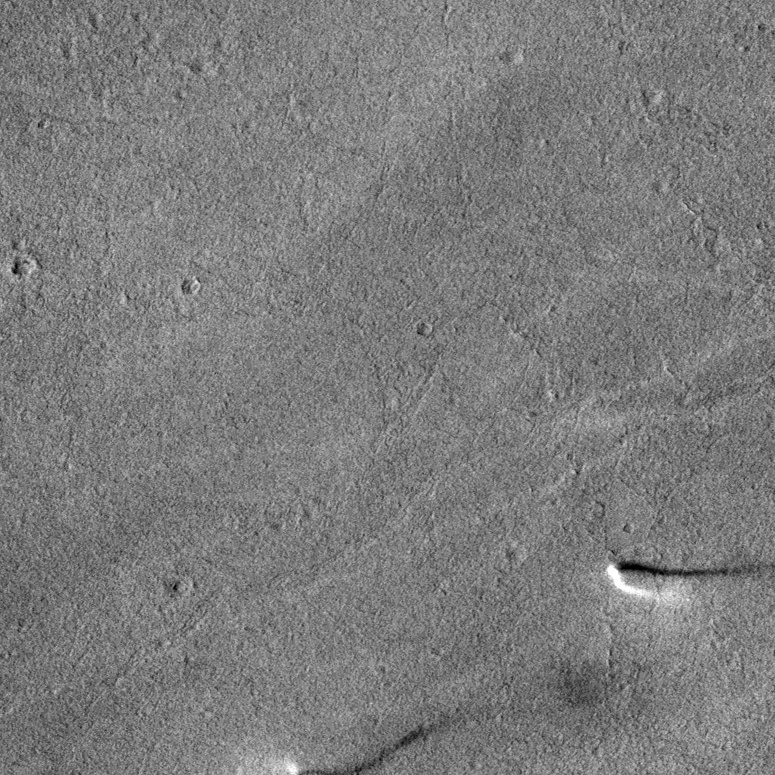dust_devil: (274, 724, 436, 775), (606, 559, 760, 606)
